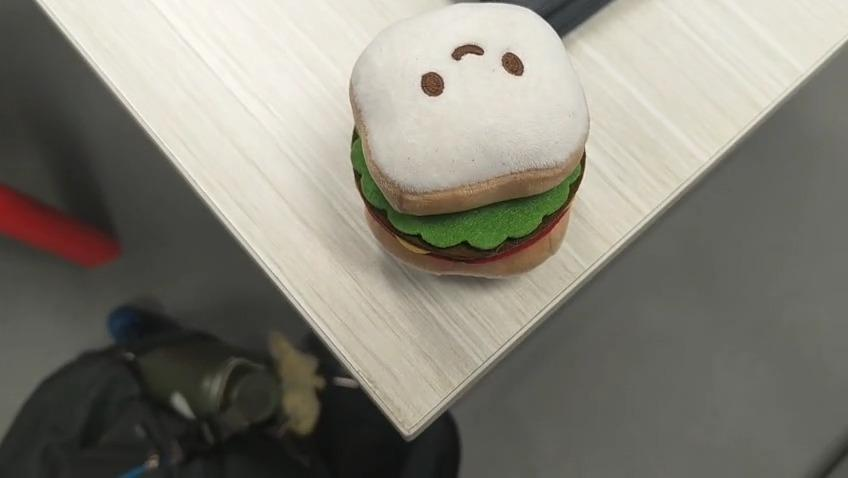objects: (350, 8, 589, 280)
